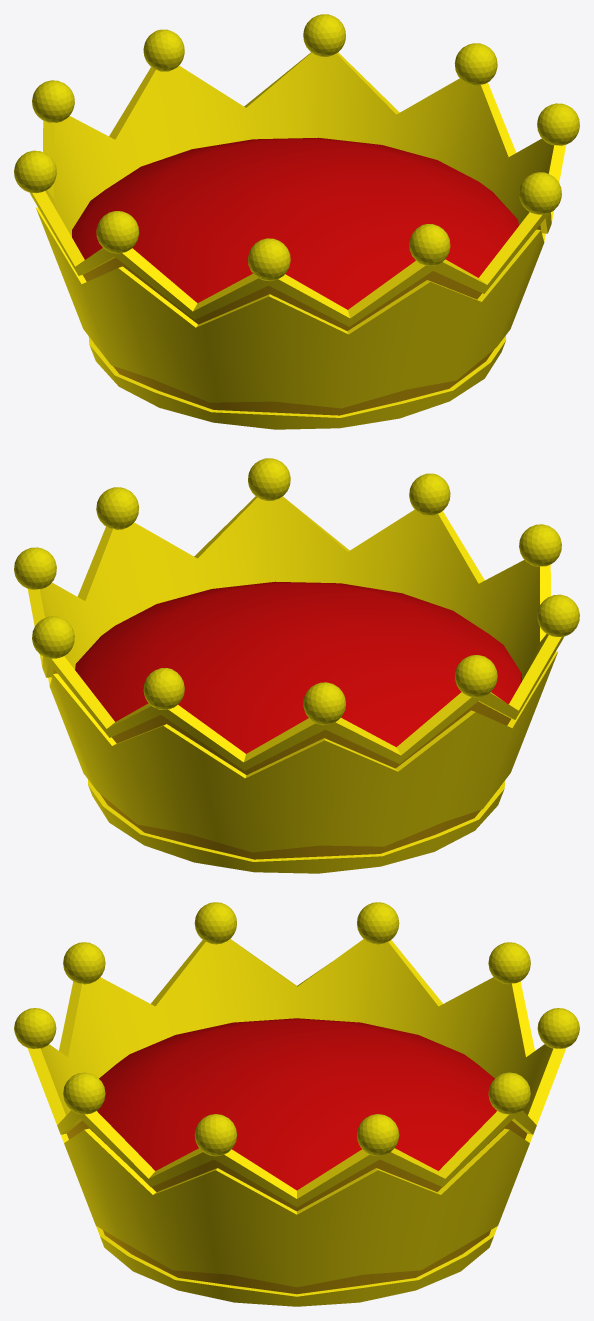
Rendered from Queen Crown.fbx.
The picture shows the model from 3 angles, top to bottom: view 1: azimuth 30°, elevation 25°; view 2: azimuth 150°, elevation 25°; view 3: azimuth 270°, elevation 25°; orthographic projection.
Parts seen in each view (by area): view 1: Cylinder, Cylinder.001, Icosphere; view 2: Cylinder, Cylinder.001, Icosphere; view 3: Cylinder, Cylinder.001, Icosphere.
Boxes of the visible parts, bbox=[...] form: Cylinder: bbox=[30, 52, 565, 429]; Cylinder.001: bbox=[72, 137, 518, 309]; Icosphere: bbox=[14, 14, 579, 281]; Cylinder: bbox=[28, 496, 563, 873]; Cylinder.001: bbox=[75, 581, 521, 753]; Icosphere: bbox=[14, 458, 579, 725]; Cylinder: bbox=[27, 939, 566, 1306]; Cylinder.001: bbox=[97, 1018, 496, 1190]; Icosphere: bbox=[14, 902, 579, 1156].
Bounding box in the file's own units: 268 × 115 × 279.
